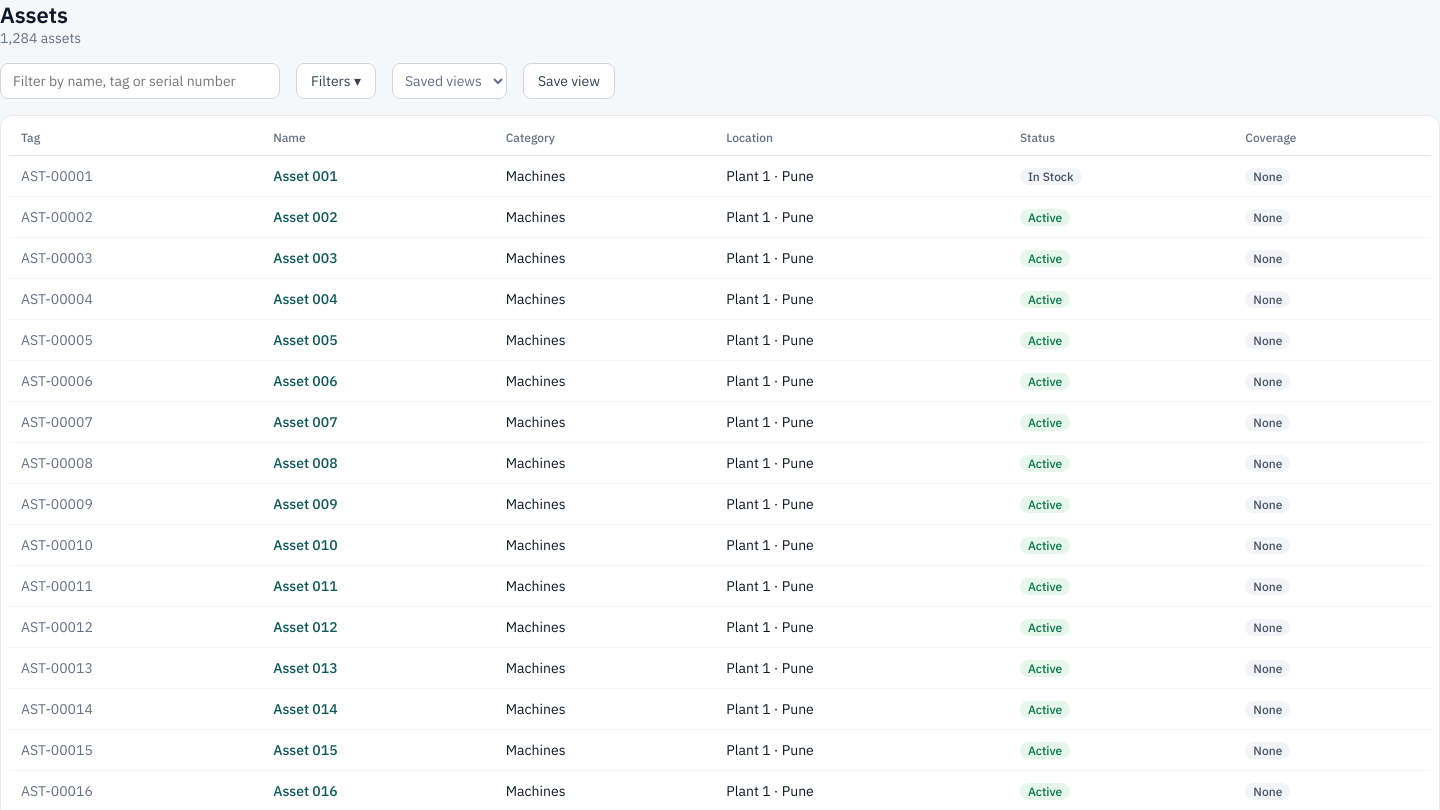
Scenario: phone: filters open as a bottom sheet; Apply and the backdrop close it; not reopened on load
Click the button "Filters ▾". click: (336, 81)
box: [296,63,376,99]
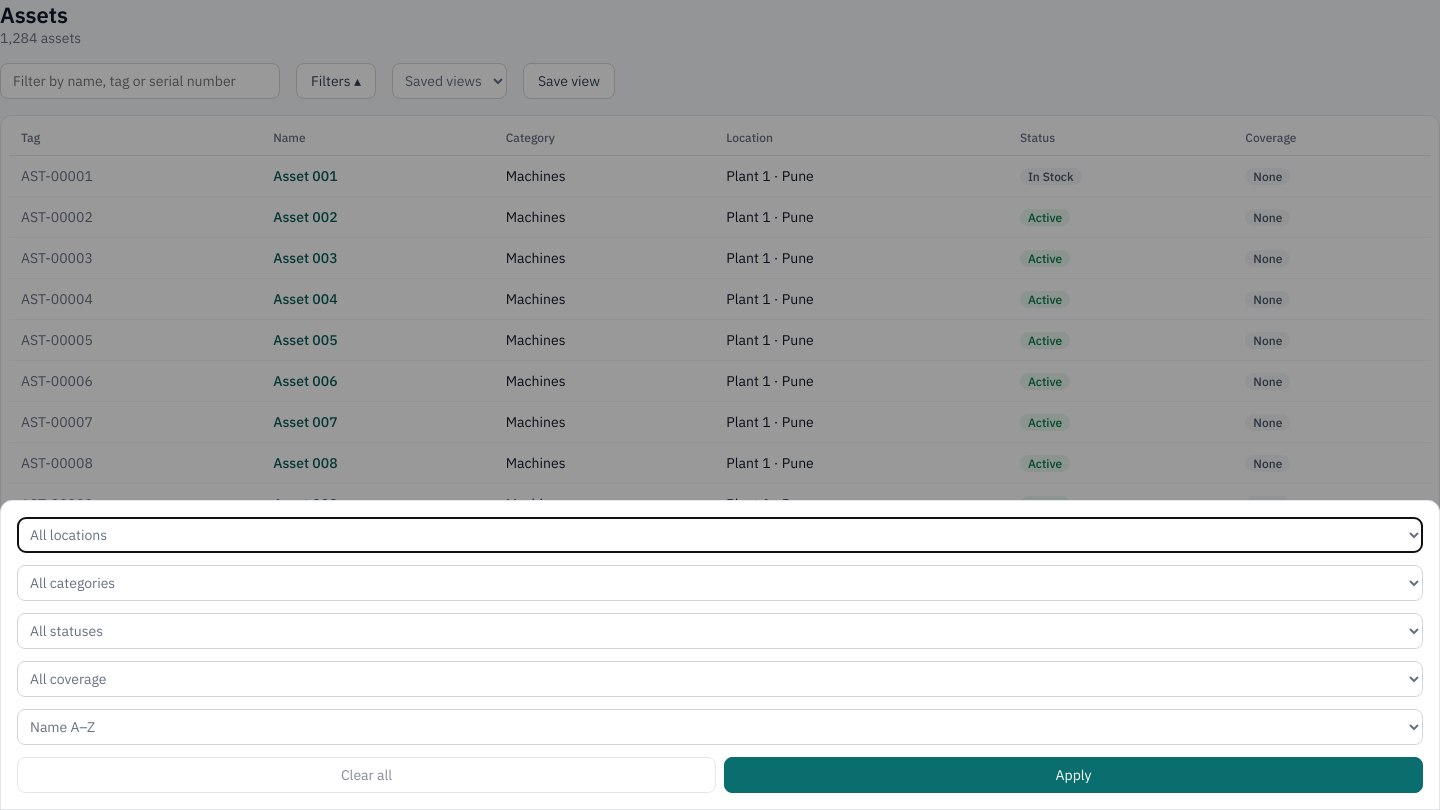
Select "Out of coverage" in the dropdown named "Coverage". click: (720, 679)
box: [17,661,1423,697]
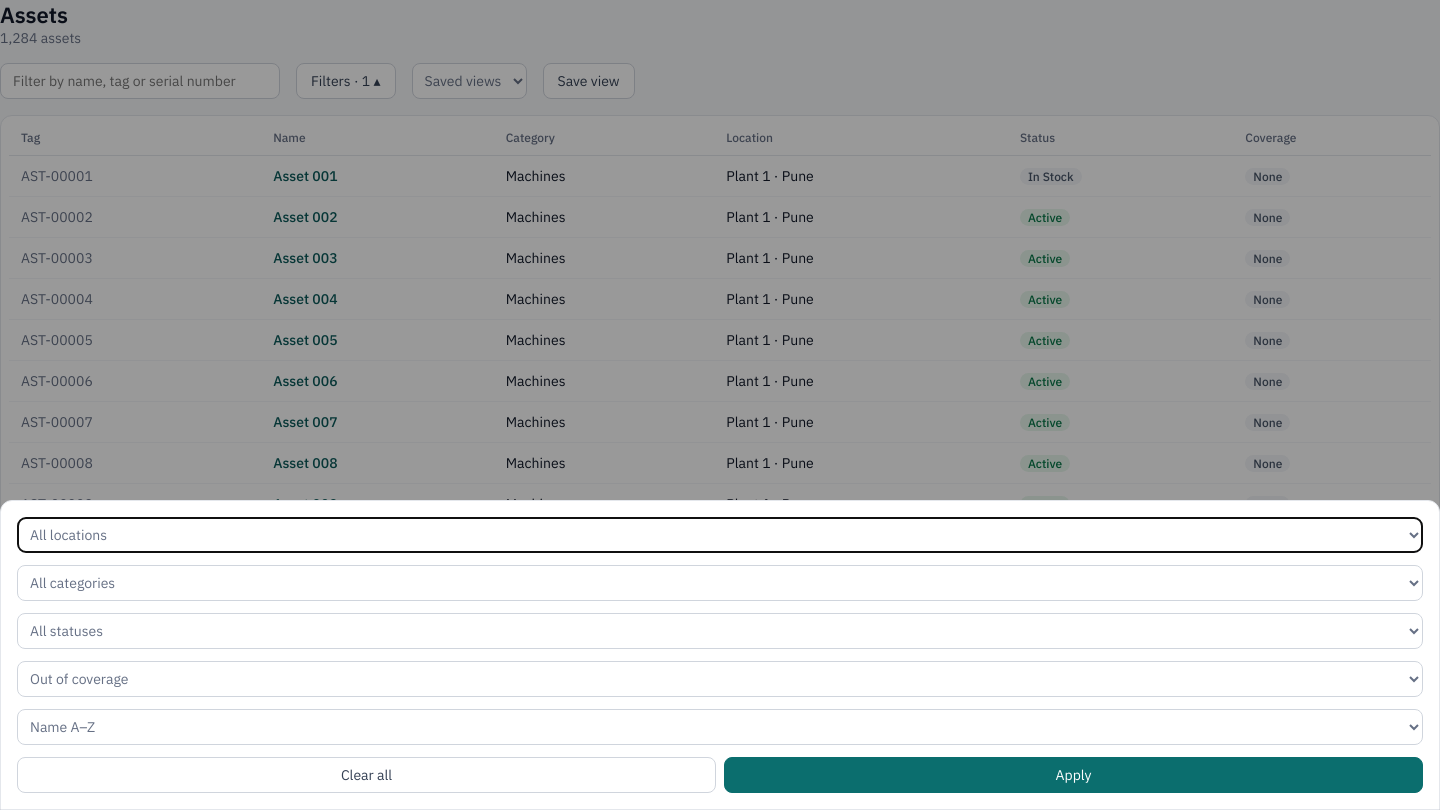
Click the button "Apply". click: (1074, 775)
box: [724,757,1423,793]
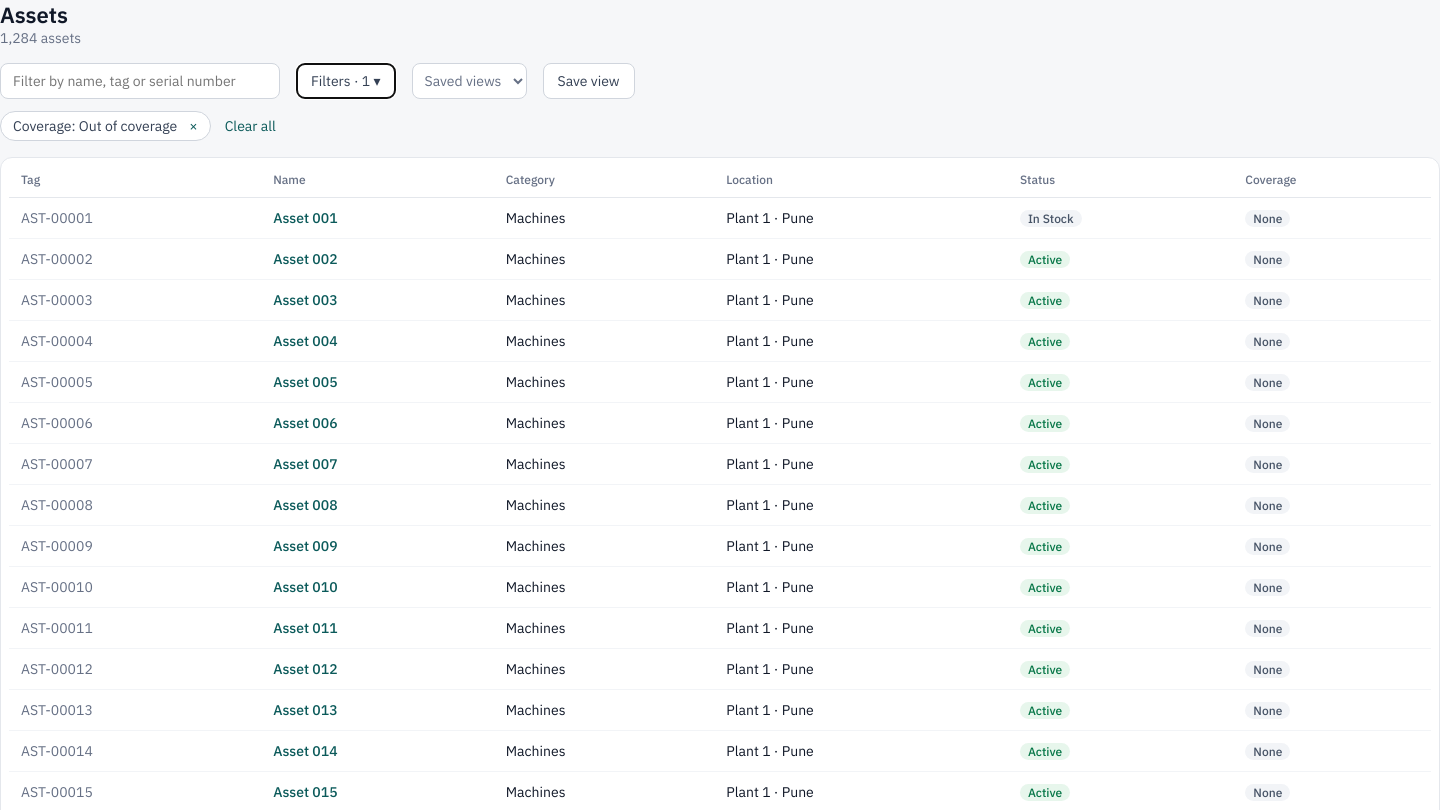
Expected: the dialog with id "asset-filters" is gone
Click the button "Filters · 1 ▾". click: (346, 81)
box: [296,63,396,99]
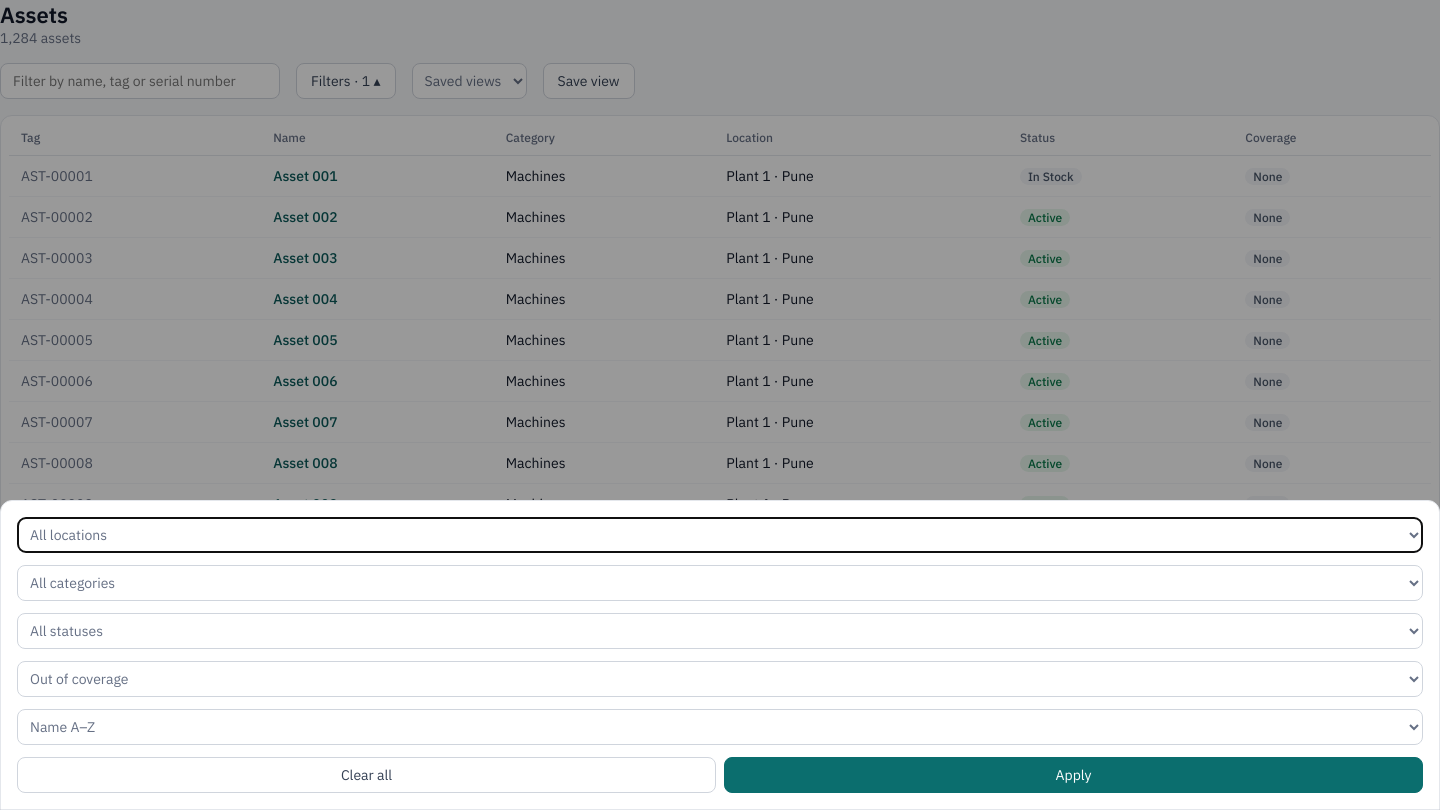
Click the element with class "sheet-backdrop". click: (720, 405)
box: [0,0,1439,809]
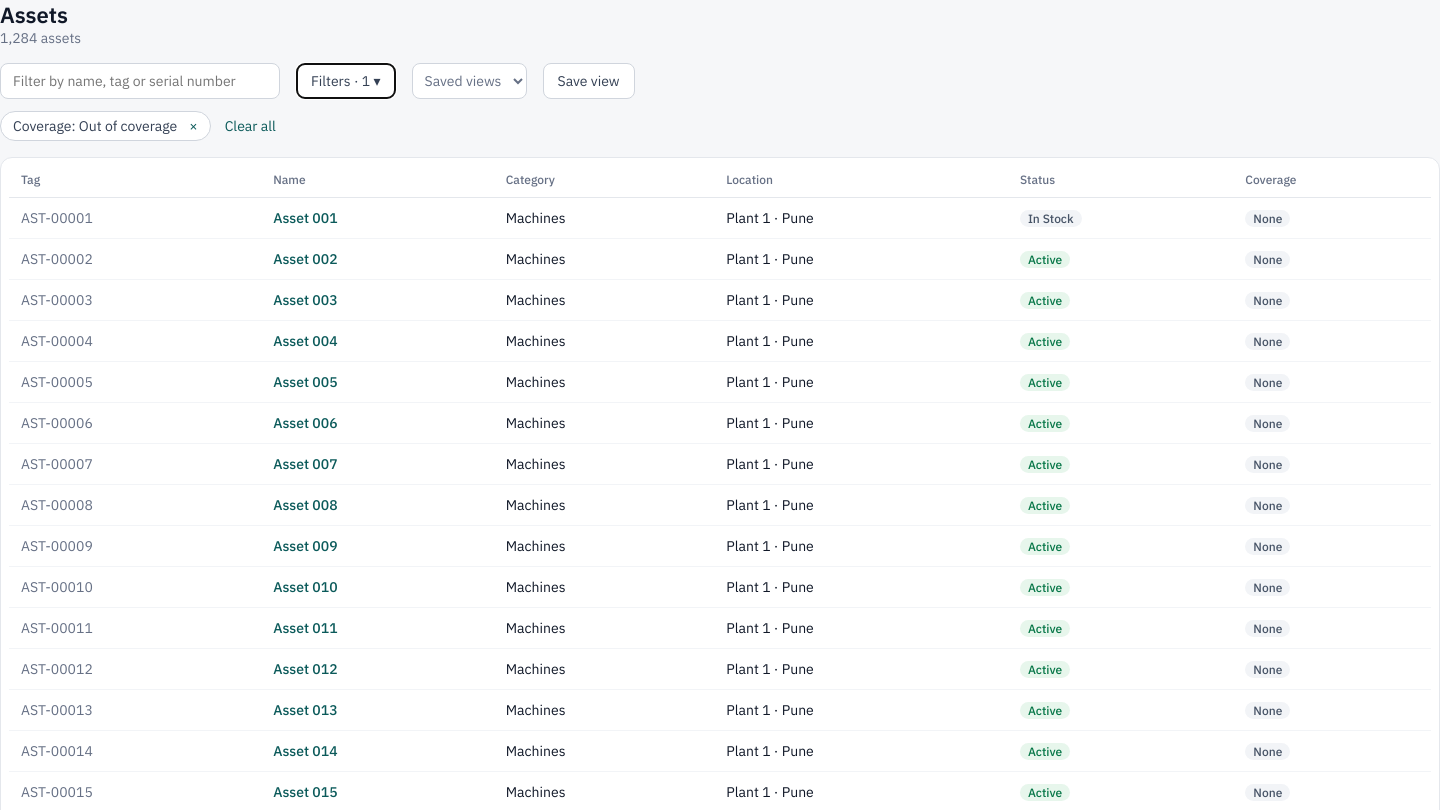
Expected: the dialog with id "asset-filters" is gone
